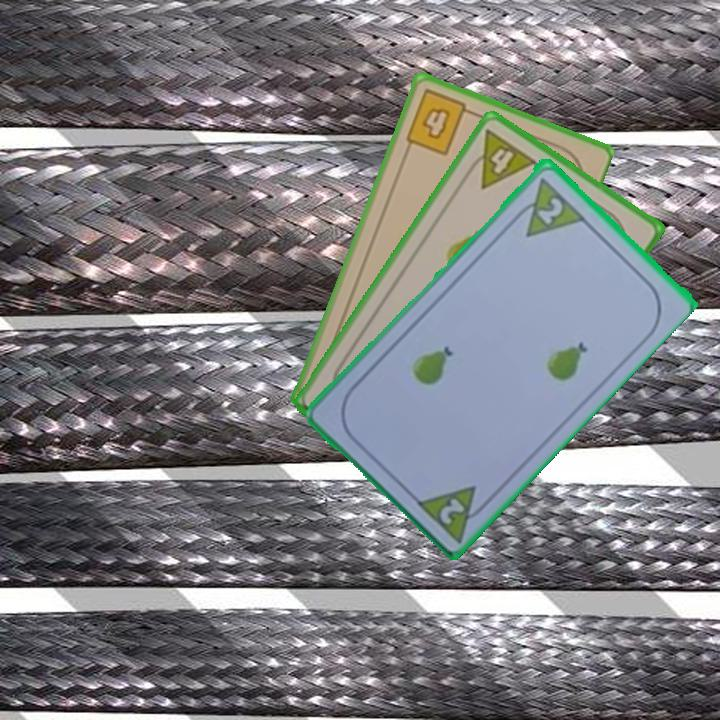2p: (411, 480, 495, 545), (508, 172, 586, 239)
4b: (401, 85, 478, 159)
4p: (460, 125, 540, 192)
